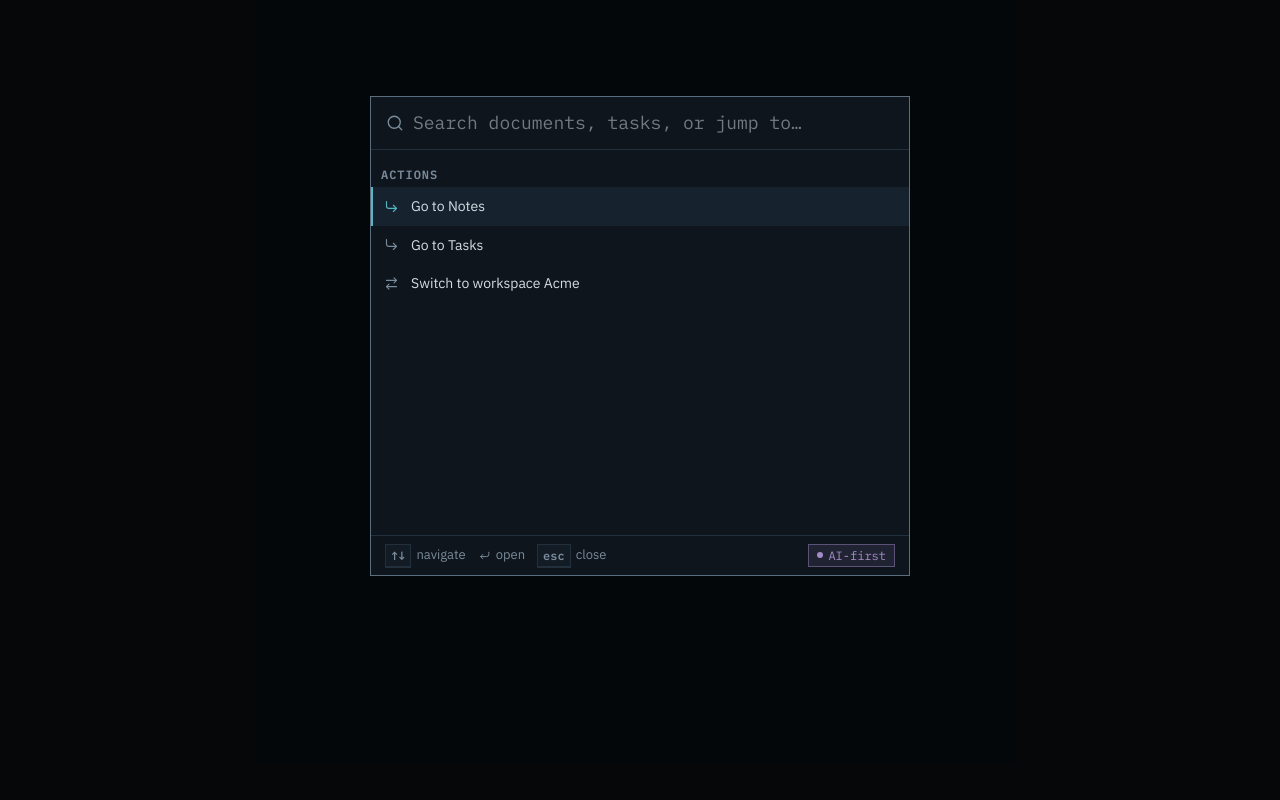
Test case: CommandPalette (REQ-W23/W24) › shows an empty-state when a query returns no hits
The image size is (1280, 800).
Type "zzzqqq" into the field with placeholder "Search documents, tasks, or jump to…". click: [654, 123]
box: x1=413 y1=110 x2=894 y2=136
Wait 250 ms
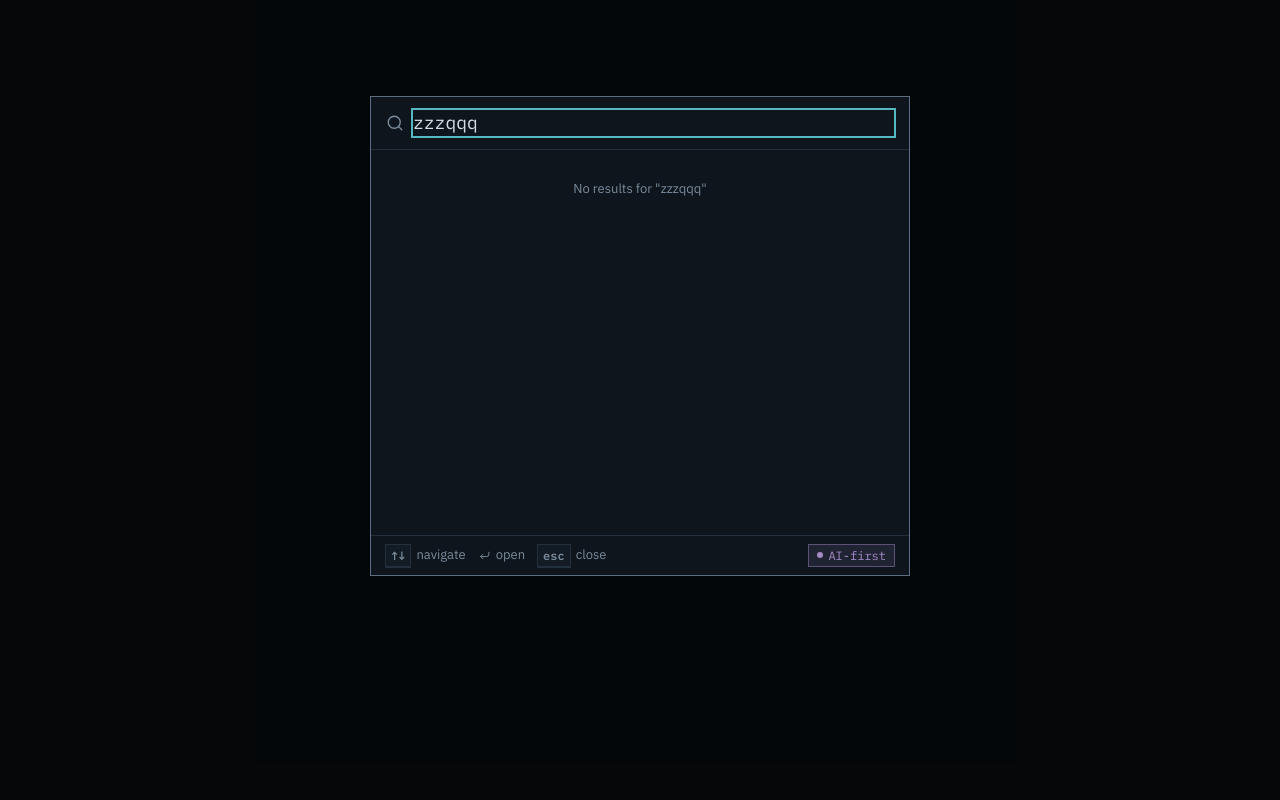
Check: the text "No results" is shown, box x1=573 y1=180 x2=707 y2=197
